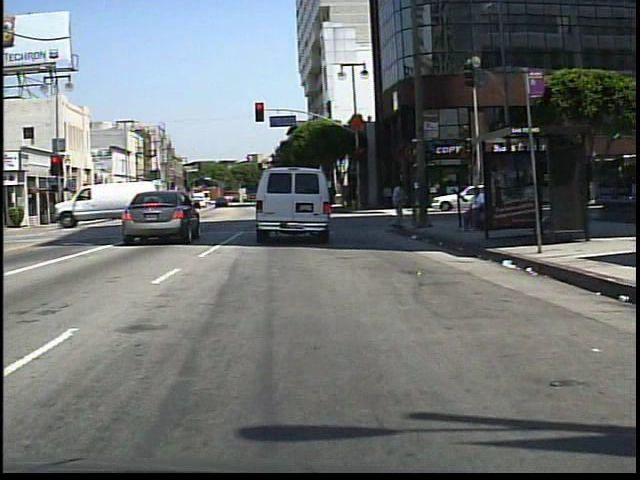person: (383, 177, 411, 234), (463, 185, 490, 235), (123, 193, 138, 218)
